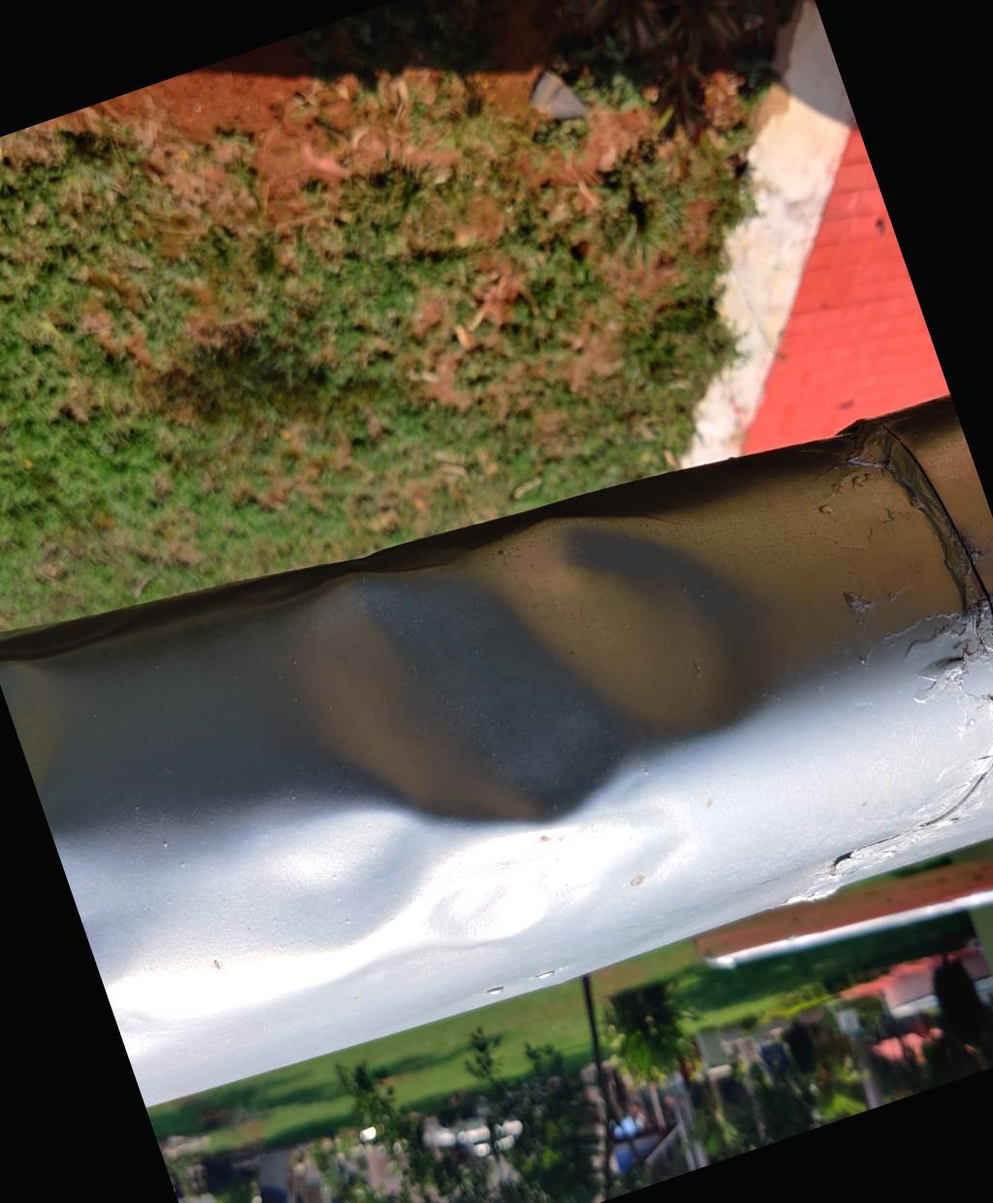dent: (92, 385, 899, 1086), (0, 592, 176, 867)
